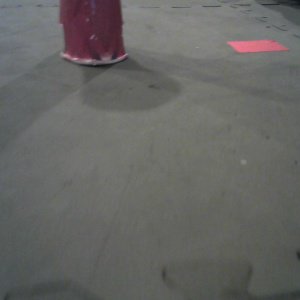middle: (54, 1, 131, 68)
